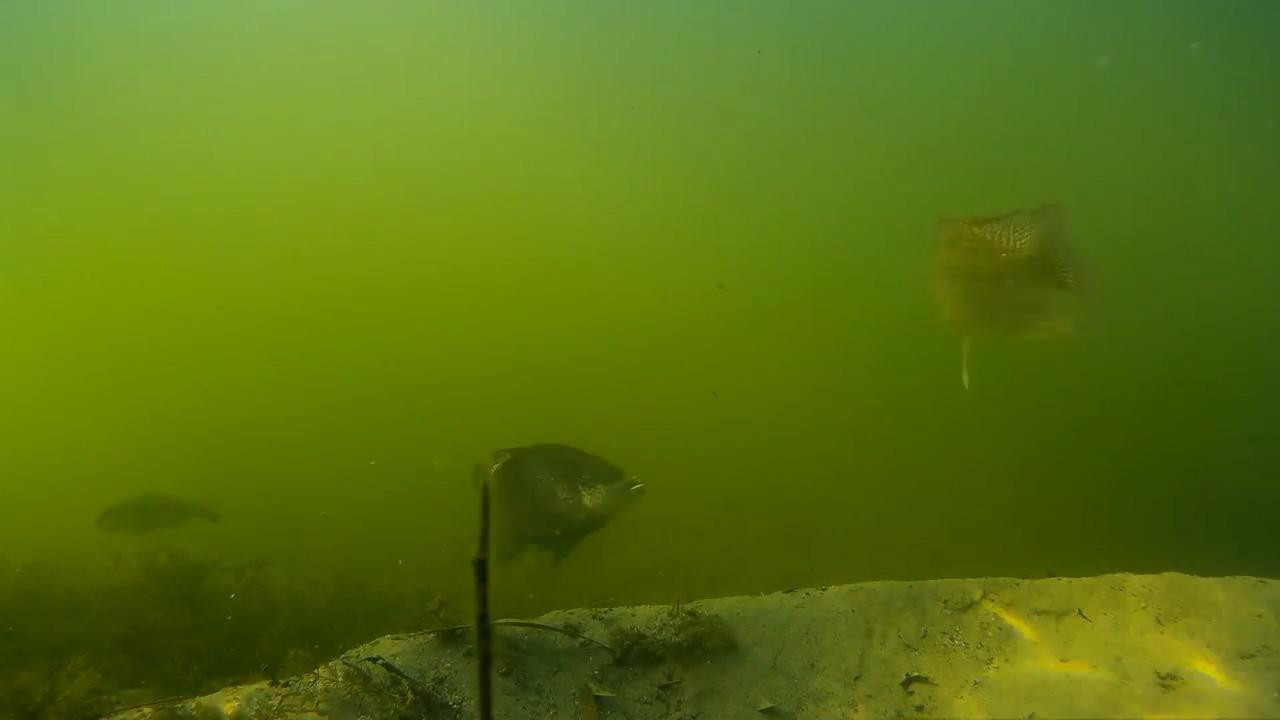Tilapia: (922, 190, 1119, 422), (478, 416, 661, 560), (75, 466, 233, 562)
